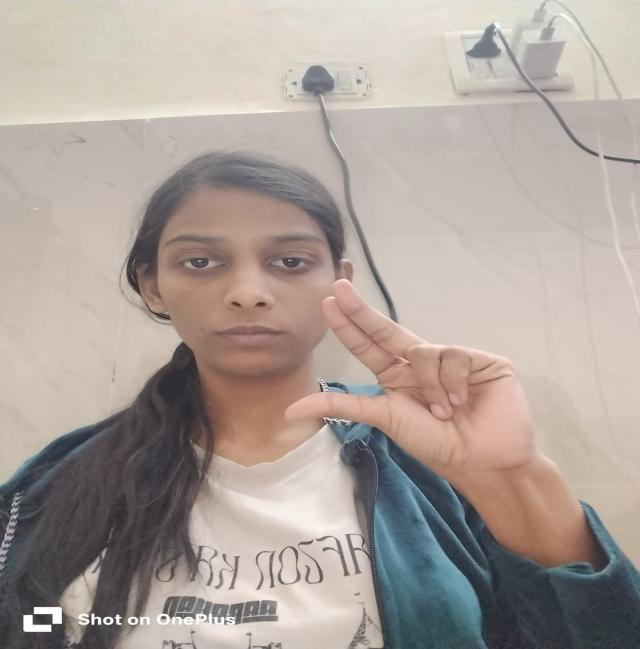No: (277, 279, 571, 507)
